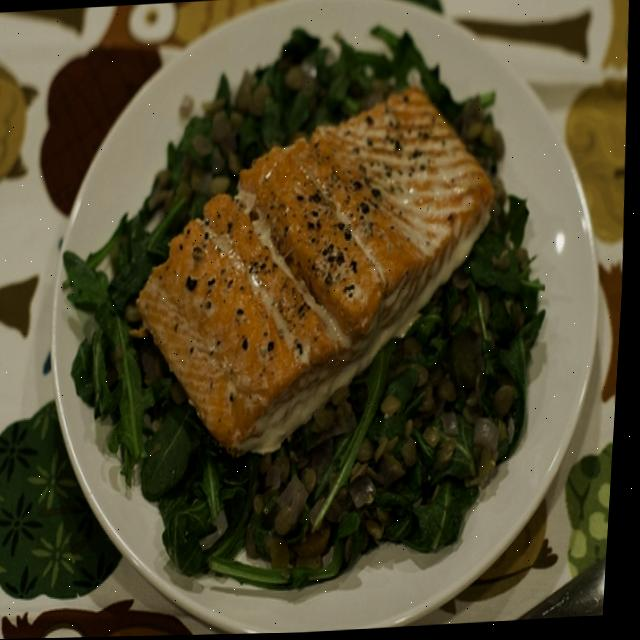熟制海鲜: (18, 0, 624, 639)
